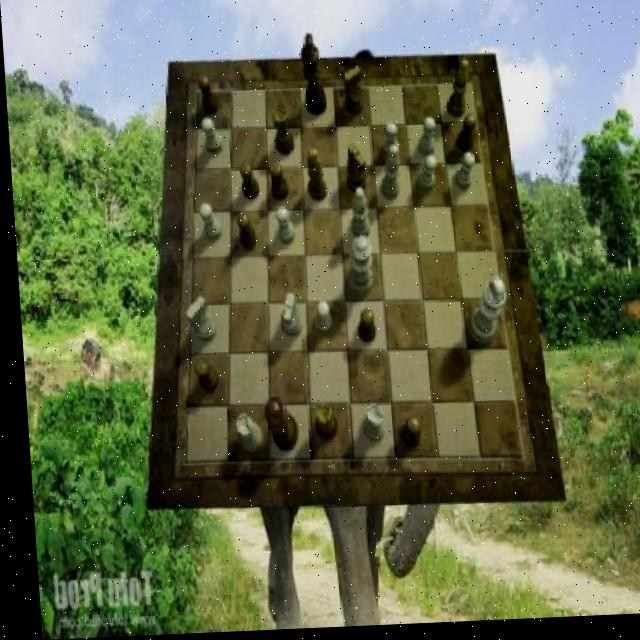bishop: (443, 64, 470, 123), (303, 150, 325, 203)
black-bishop: (298, 37, 325, 119)
black-king: (342, 148, 365, 199), (342, 69, 362, 119)
black-knight: (453, 117, 475, 157), (189, 361, 214, 396), (196, 77, 216, 118), (234, 215, 253, 253), (238, 164, 257, 202), (266, 166, 285, 203), (352, 312, 372, 347), (394, 420, 415, 452)
black-pawn: (257, 398, 293, 454)
black-queen: (269, 112, 292, 158), (307, 407, 332, 445)
black-rook: (375, 148, 399, 203), (345, 190, 367, 244)
white-bishop: (460, 281, 504, 348)
white-king: (180, 298, 212, 345), (275, 295, 300, 338)
white-knight: (195, 204, 219, 243), (450, 156, 474, 194), (414, 122, 435, 163), (412, 157, 434, 196), (199, 119, 221, 155), (272, 209, 292, 247), (378, 126, 397, 163), (309, 303, 328, 338)
white-pawn: (340, 238, 370, 301)
white-queen: (228, 415, 255, 455), (356, 406, 379, 445)
